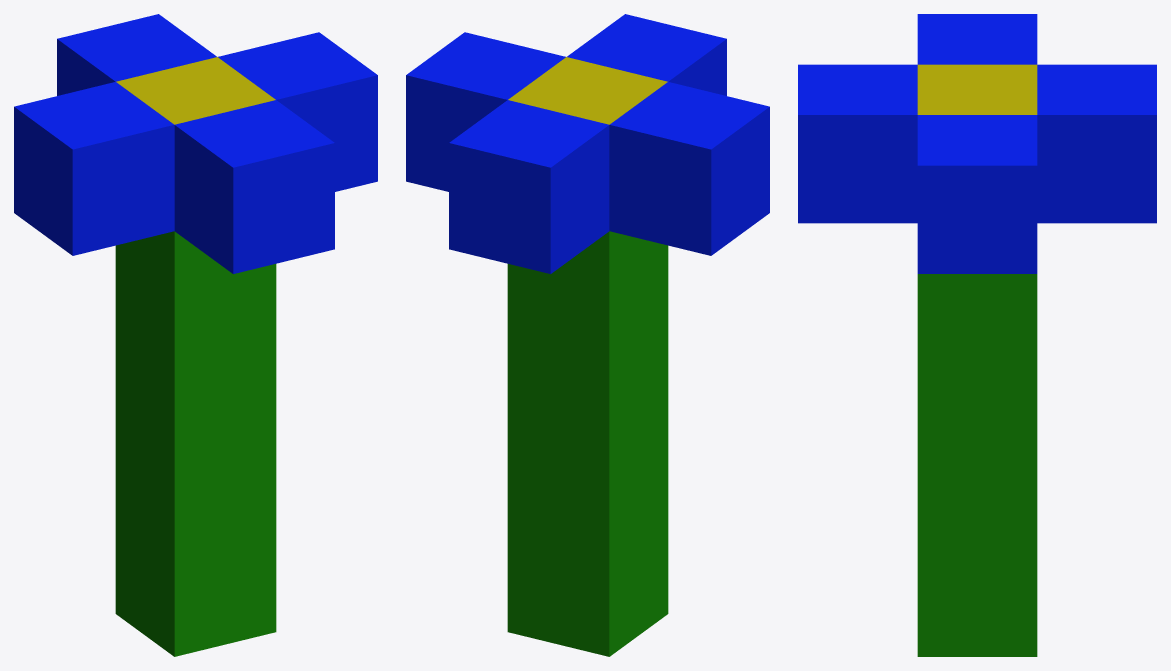
The model's file is (3) Blue Flowers (Stage 6).obj.
The picture shows the model from 3 angles, left to right: view 1: azimuth 30°, elevation 25°; view 2: azimuth 150°, elevation 25°; view 3: azimuth 270°, elevation 25°; orthographic projection.
Size of the model in its own units: 0.3 by 0.5 by 0.3.
Materials: 1 (1 with a texture image).
